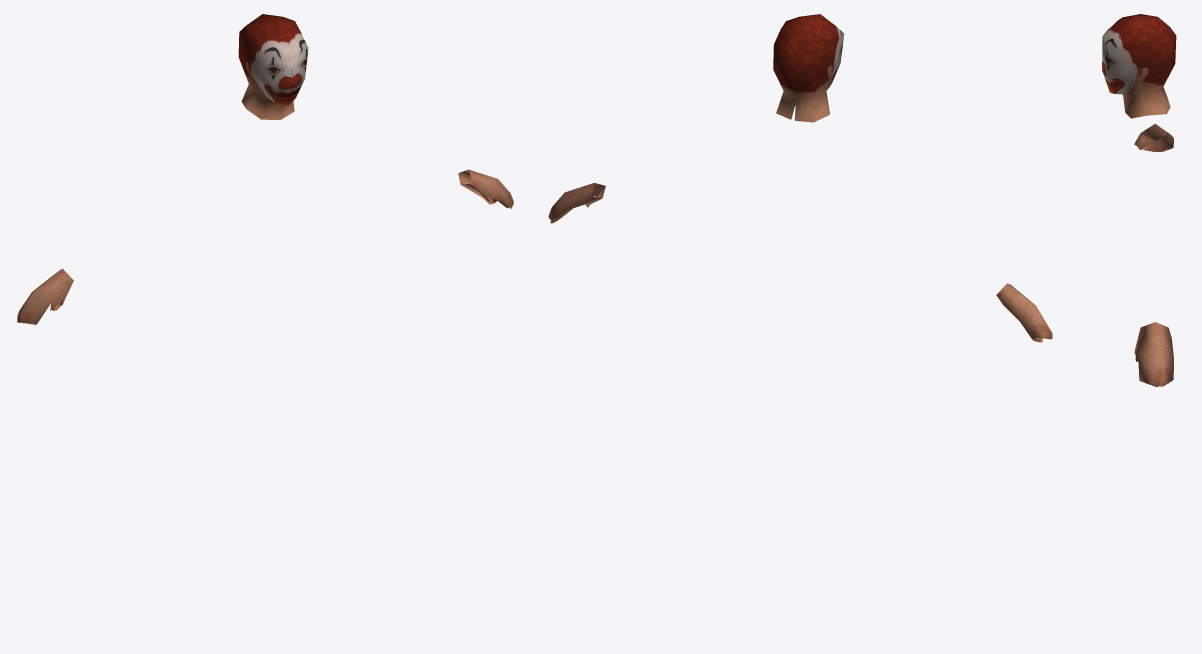
The model's file is Donald.fbx.
3 renders of one model, left to right at view 1: azimuth 30°, elevation 25°; view 2: azimuth 150°, elevation 25°; view 3: azimuth 270°, elevation 25°, orthographic.
Parts seen in each view (by area): view 1: HumanoidBase_Overlapping; view 2: HumanoidBase_Overlapping; view 3: HumanoidBase_Overlapping.
Boxes of the visible parts, bbox=[...] form: HumanoidBase_Overlapping: bbox=[17, 14, 513, 324]; HumanoidBase_Overlapping: bbox=[548, 14, 1052, 342]; HumanoidBase_Overlapping: bbox=[1102, 14, 1176, 387].
Bounding box in the file's own units: 161 × 180 × 28.62.
Materials: 1 (1 with a texture image).
